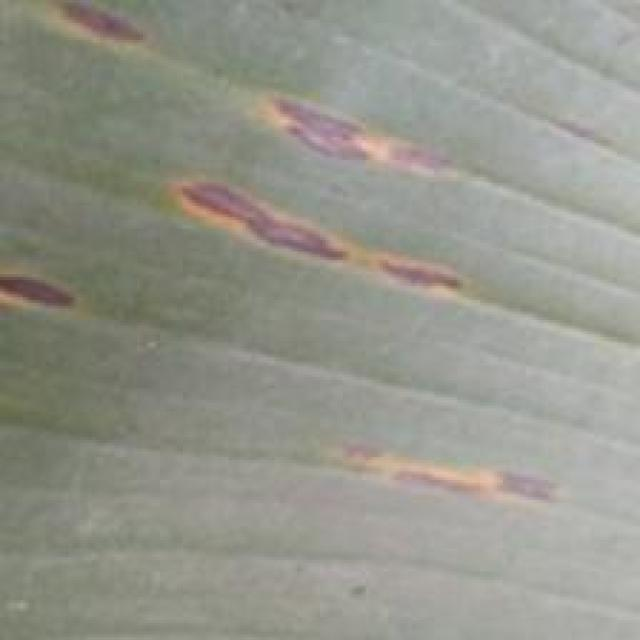Early_leaf_spot: (156, 160, 486, 301), (319, 411, 571, 523), (264, 70, 422, 188), (17, 0, 160, 54), (0, 267, 86, 332)
